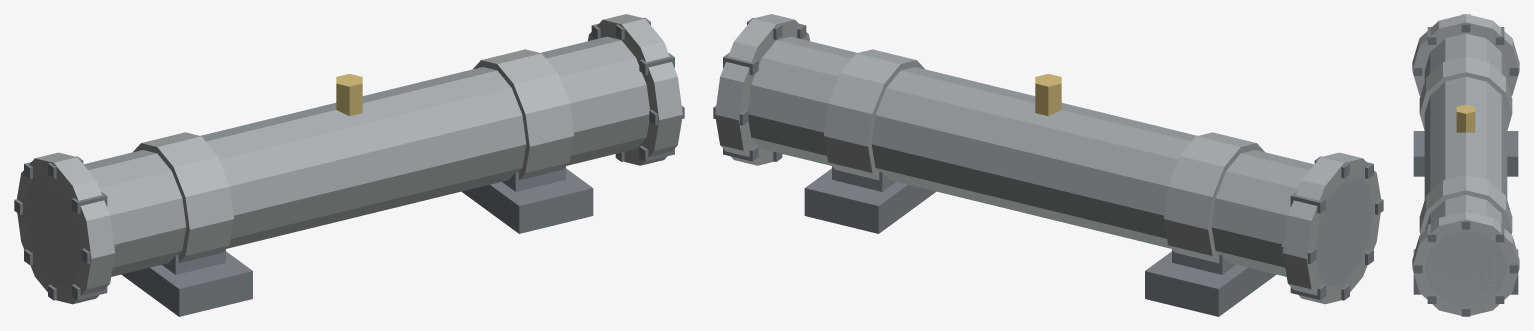
3 renders of one model, left to right at view 1: azimuth 30°, elevation 25°; view 2: azimuth 150°, elevation 25°; view 3: azimuth 270°, elevation 25°, orthographic. The views are drawn at different scales.
Visible parts, largest first — view 1: sea_pipeline; view 2: sea_pipeline; view 3: sea_pipeline.
Part boxes in pixels (x1,y1,x2,y2): sea_pipeline: [14, 14, 684, 316]; sea_pipeline: [713, 14, 1383, 316]; sea_pipeline: [1412, 14, 1519, 316].
Bounding box in the file's own units: 4.04 × 1.03 × 0.8838.
